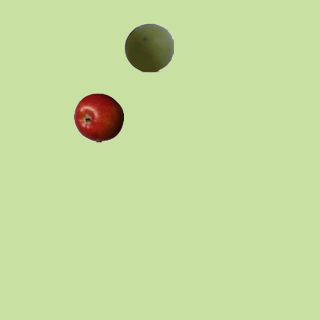Apple Braeburn: (73, 92, 123, 142)
Grape White 4: (123, 22, 173, 72)
